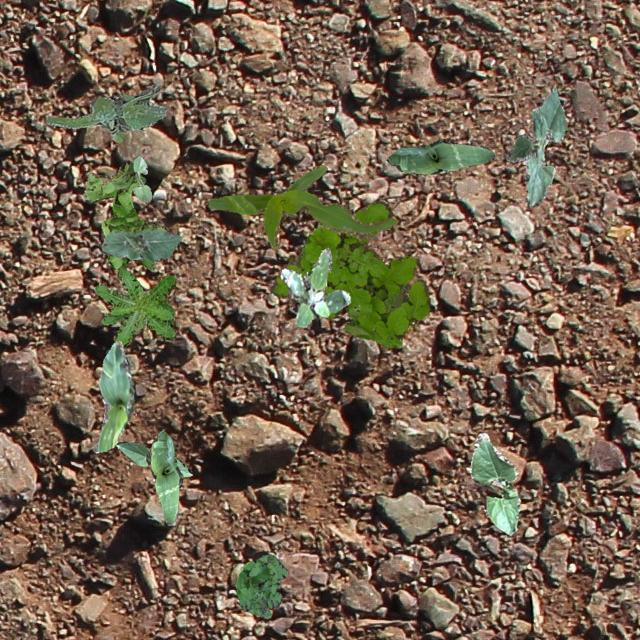crop: (206, 163, 396, 250), (504, 84, 566, 206), (470, 432, 520, 534), (92, 339, 134, 452), (386, 138, 494, 174), (148, 428, 182, 524), (102, 228, 182, 262), (116, 441, 192, 476), (132, 156, 150, 202)
weed: (270, 200, 430, 346), (82, 160, 168, 268), (44, 82, 165, 142), (94, 268, 174, 346), (280, 248, 350, 326), (234, 554, 286, 618)
